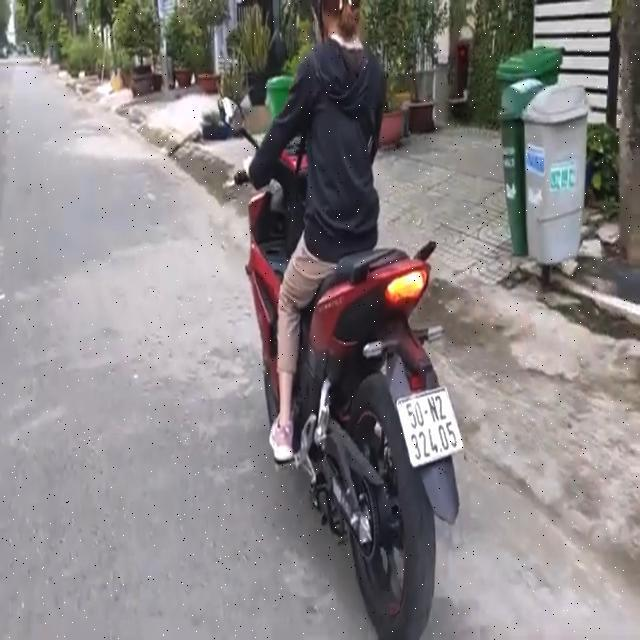motorcycle: (209, 81, 477, 636)
plate: (393, 382, 464, 468)
